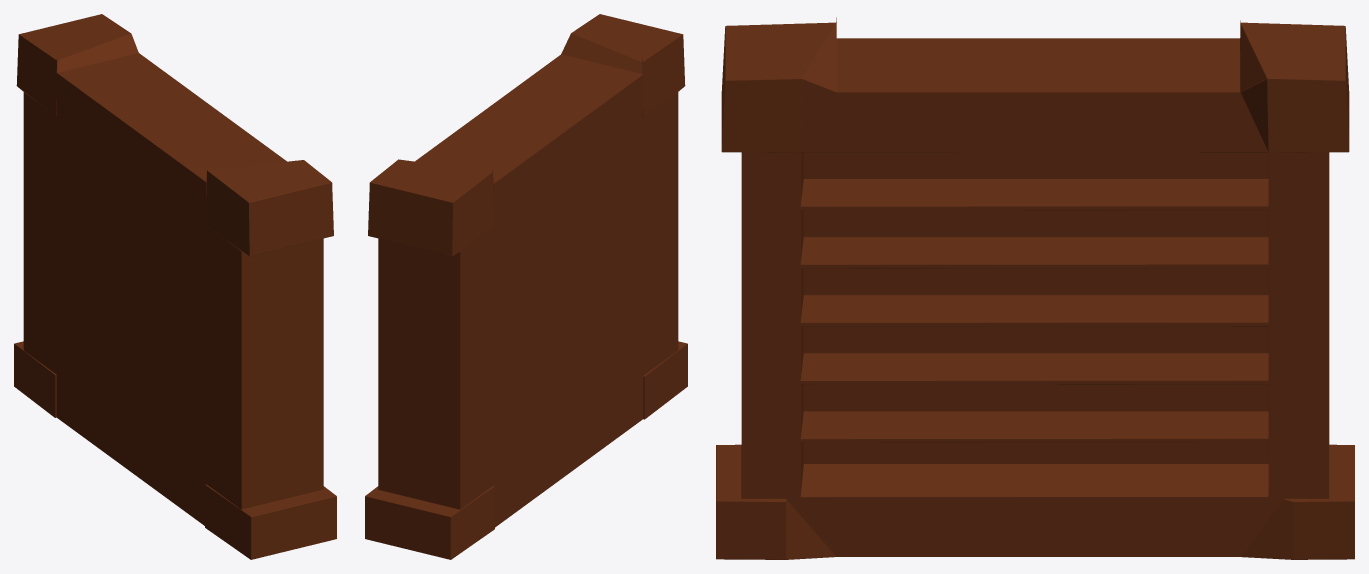
Rendered from BookcaseLarge.fbx.
3 renders of one model, left to right at view 1: azimuth 30°, elevation 25°; view 2: azimuth 150°, elevation 25°; view 3: azimuth 270°, elevation 25°, orthographic. The views are drawn at different scales.
Visible parts, largest first — view 1: Cube.046; view 2: Cube.046; view 3: Cube.046.
Boxes of the visible parts, x1=… form: Cube.046: x1=14, y1=14, x2=336, y2=559; Cube.046: x1=365, y1=14, x2=687, y2=559; Cube.046: x1=716, y1=17, x2=1354, y2=559.
Bounding box in the file's own units: 155 × 609 × 720.
